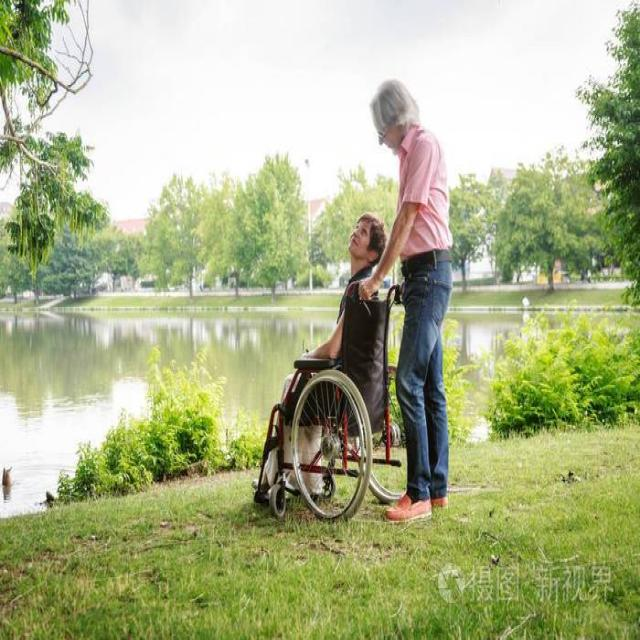wheelchairs: (249, 274, 431, 525)
